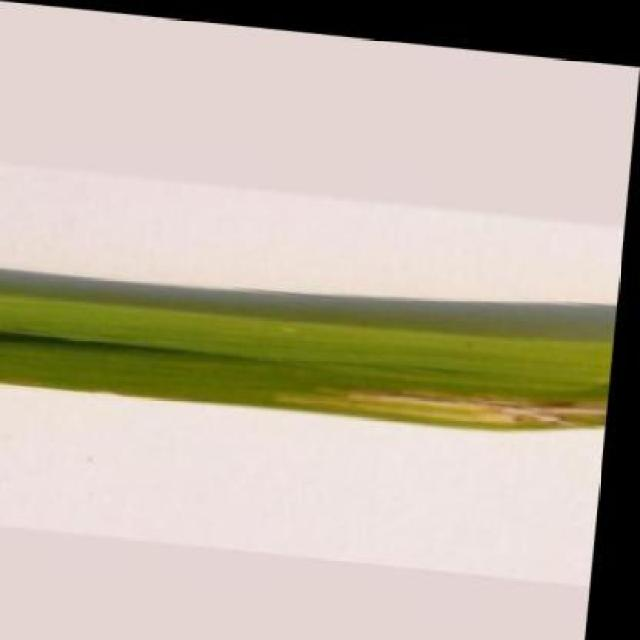Brown_Spot: (0, 272, 618, 439)
